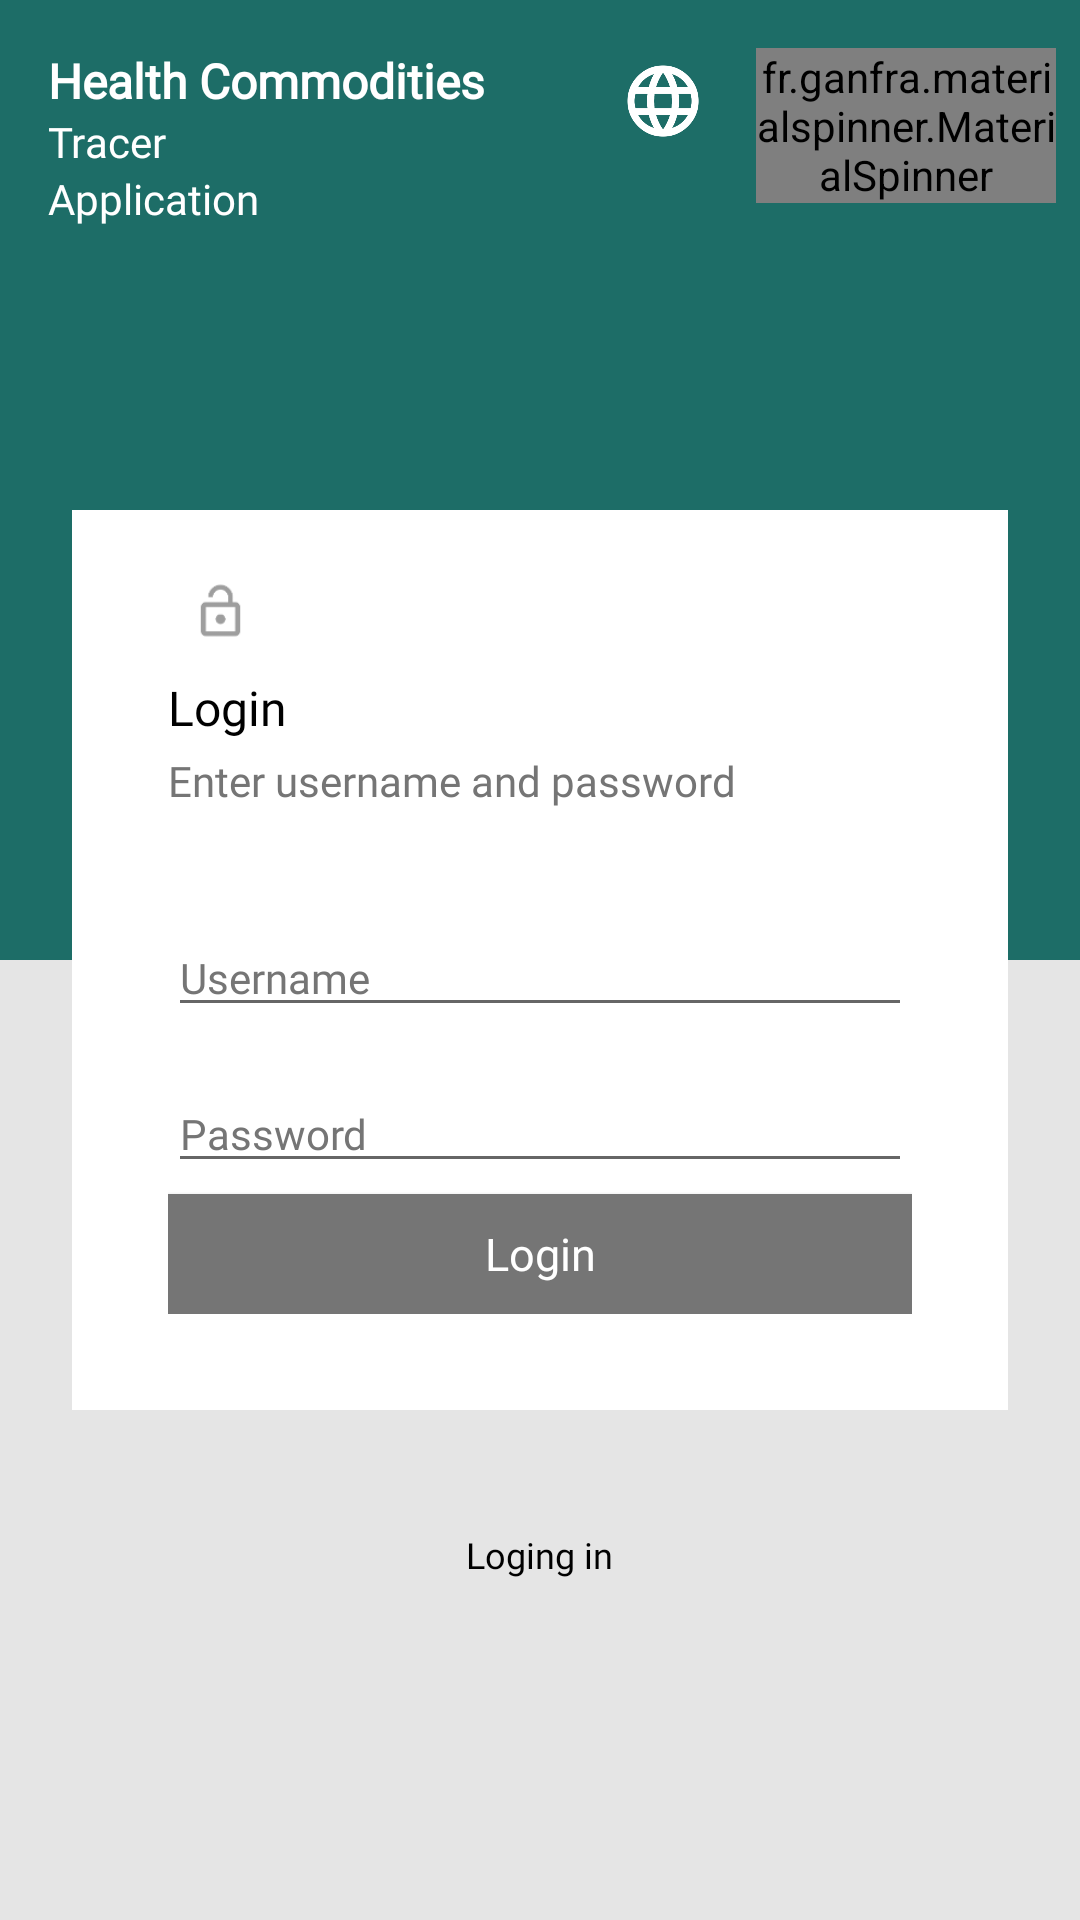

Screen size 1080w x 1920h. Icon name, then its center in pixels as [x,y]:
language: [663,101]
lock open: [220,610]
